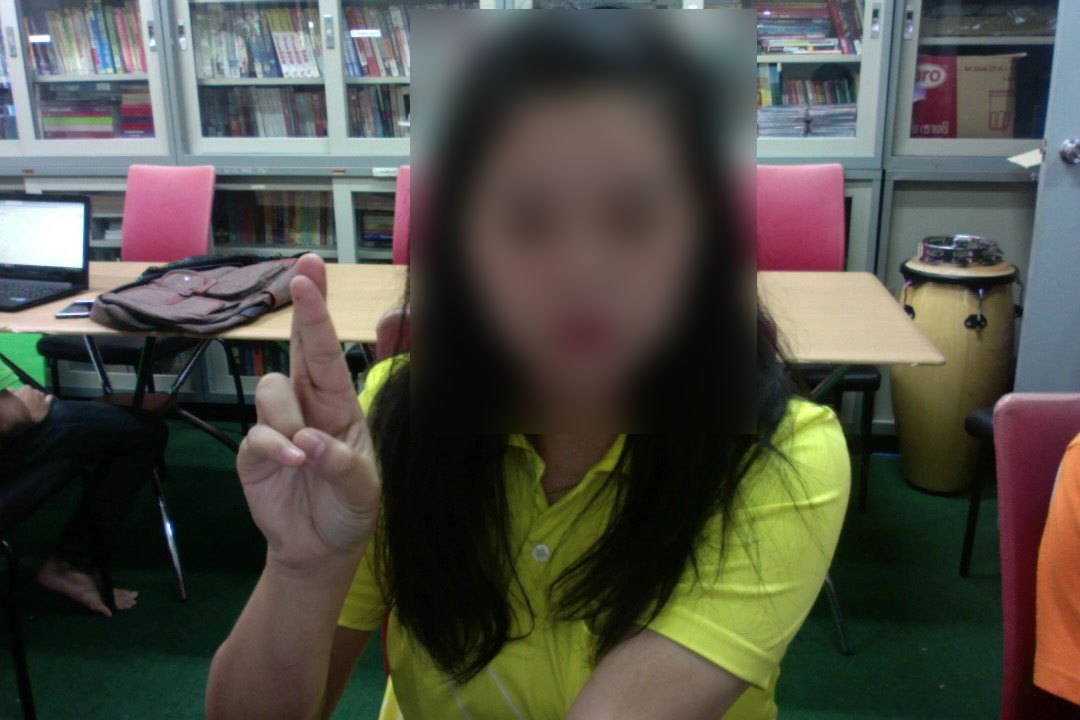rao: (222, 253, 403, 556)
